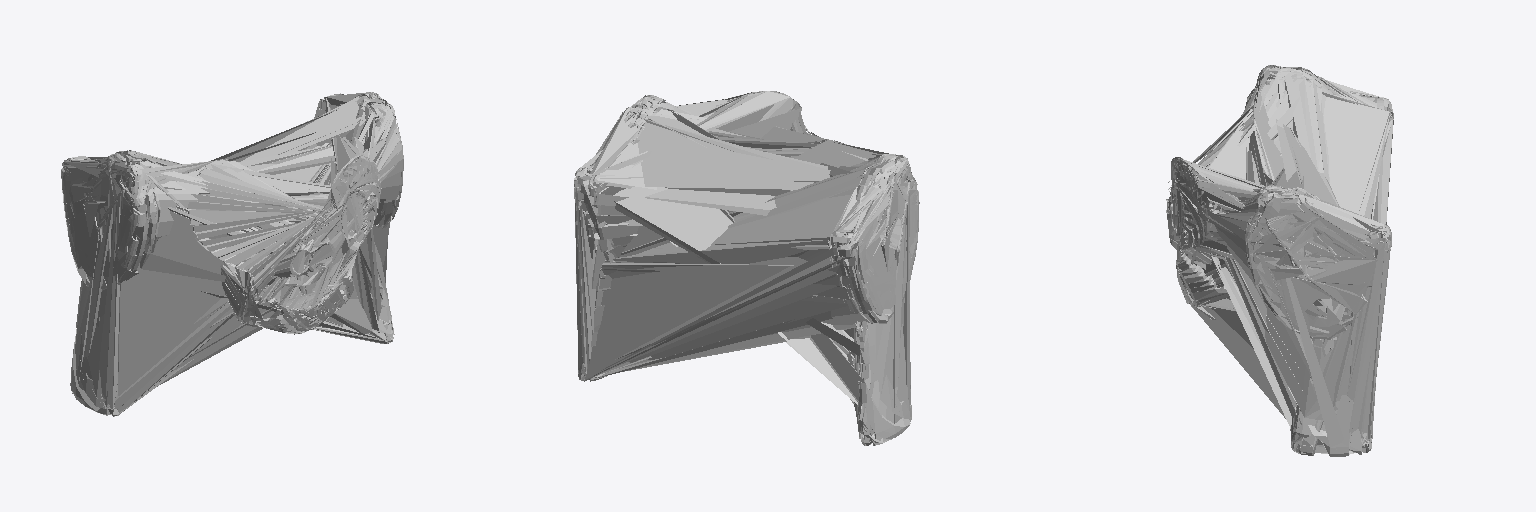
The model's file is monkey ears.obj.
The picture shows the model from 3 angles: view 1: azimuth 30°, elevation 25°; view 2: azimuth 150°, elevation 25°; view 3: azimuth 270°, elevation 25°; orthographic projection.
Parts seen in each view (by area): view 1: Group46083, Group006; view 2: Group006, Group46083; view 3: Group46083, Group006, Group003, ZBrush_defualt_group002.
Boxes of the visible parts, <box> form: Group46083: <box>61,92,403,415</box>; Group006: <box>61,92,403,416</box>; Group006: <box>574,91,918,445</box>; Group46083: <box>574,91,919,445</box>; Group46083: <box>1166,65,1393,455</box>; Group006: <box>1166,65,1393,456</box>; Group003: <box>1248,187,1376,310</box>; ZBrush_defualt_group002: <box>1245,186,1376,301</box>.
Size of the model in its own units: 23.52 by 18.69 by 15.08.